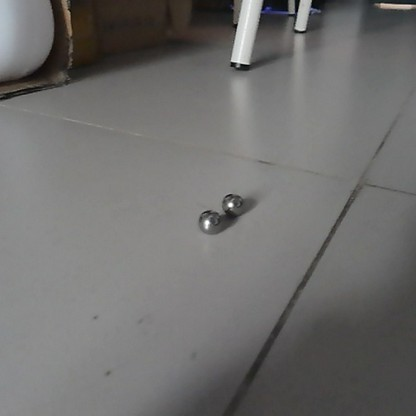ironball: (196, 208, 225, 236), (219, 191, 246, 218)
